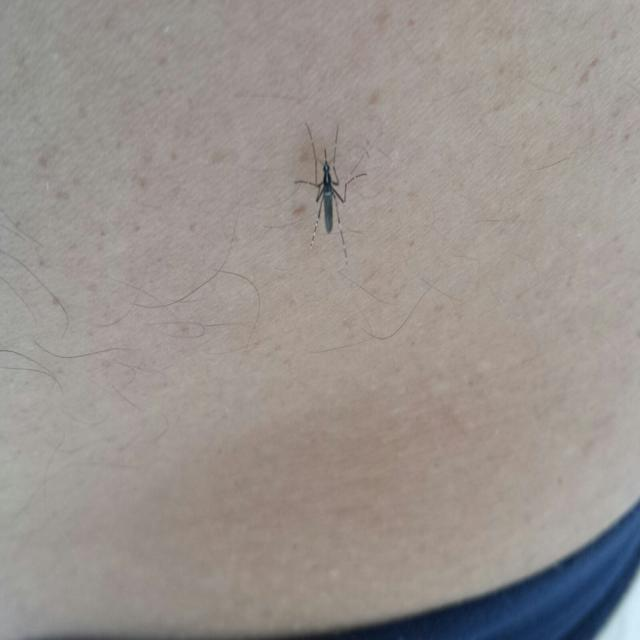albopictus: (292, 115, 368, 260)
